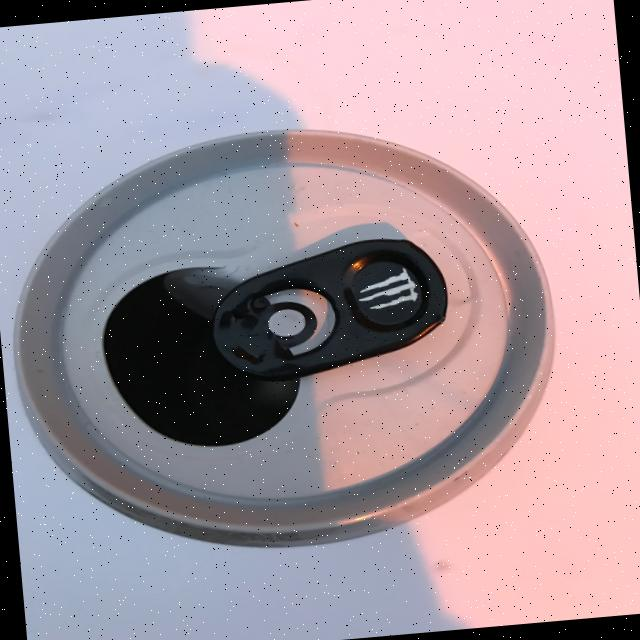metal: (0, 105, 572, 570)
